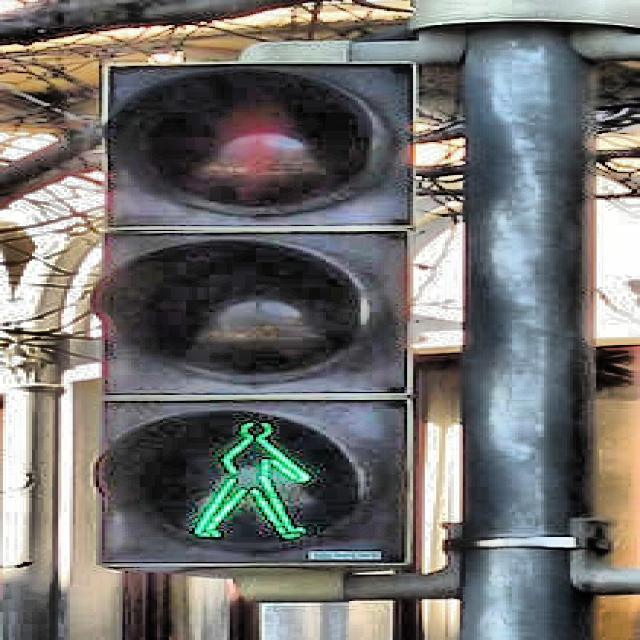green_light: (184, 413, 317, 543)
